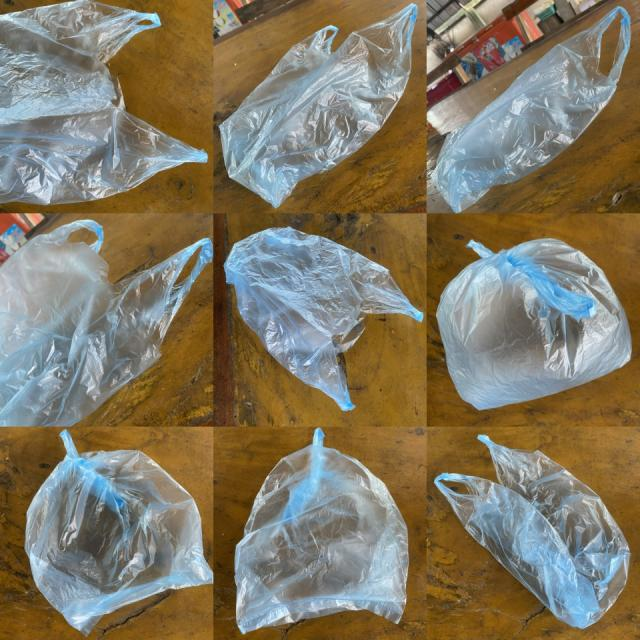Single-layer Plastic: (0, 220, 212, 426), (0, 0, 208, 204), (431, 8, 630, 212), (220, 4, 418, 208), (25, 430, 212, 635), (435, 435, 630, 628), (224, 228, 422, 411), (236, 429, 409, 633), (436, 239, 631, 409)
